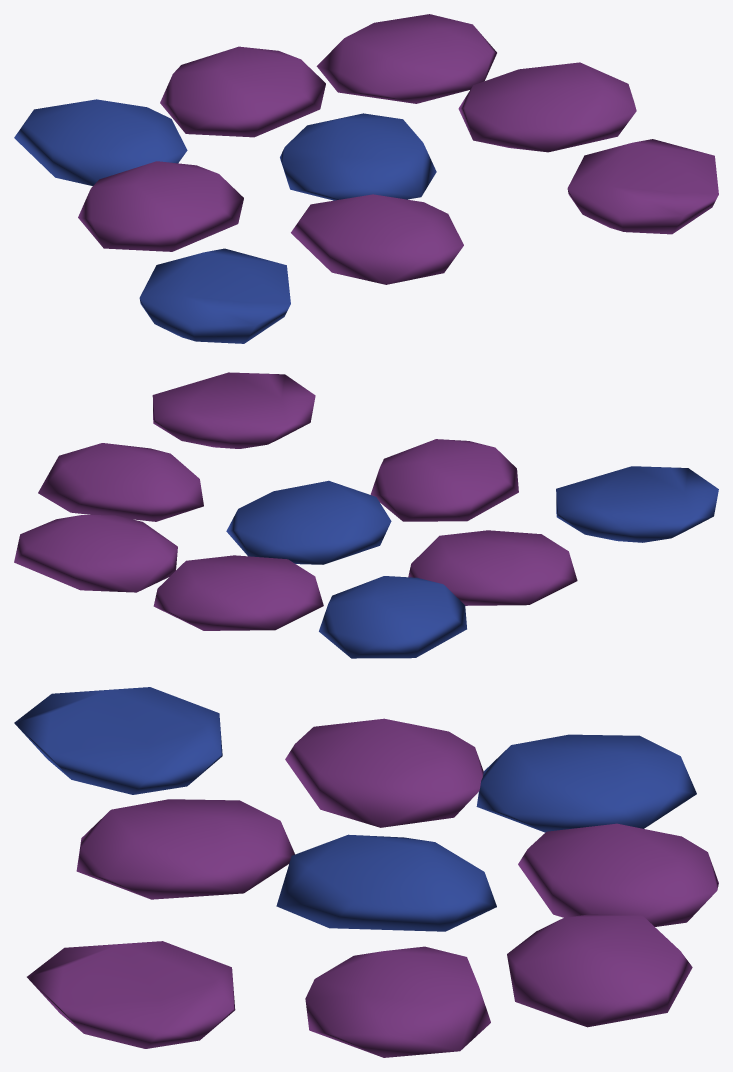
Rendered from Pebles.fbx.
The picture shows the model from 3 angles, top to bottom: view 1: azimuth 30°, elevation 25°; view 2: azimuth 150°, elevation 25°; view 3: azimuth 270°, elevation 25°; orthographic projection. The views are drawn at different scales.
Visible parts, largest first — view 1: Pebles; view 2: Pebles; view 3: Pebles.
Boxes of the visible parts, x1,y1,x2,y2 form: Pebles: (14, 14, 718, 343); Pebles: (14, 372, 718, 658); Pebles: (14, 687, 718, 1057).
Bounding box in the file's own units: 16.07 × 1.5 × 13.68.
